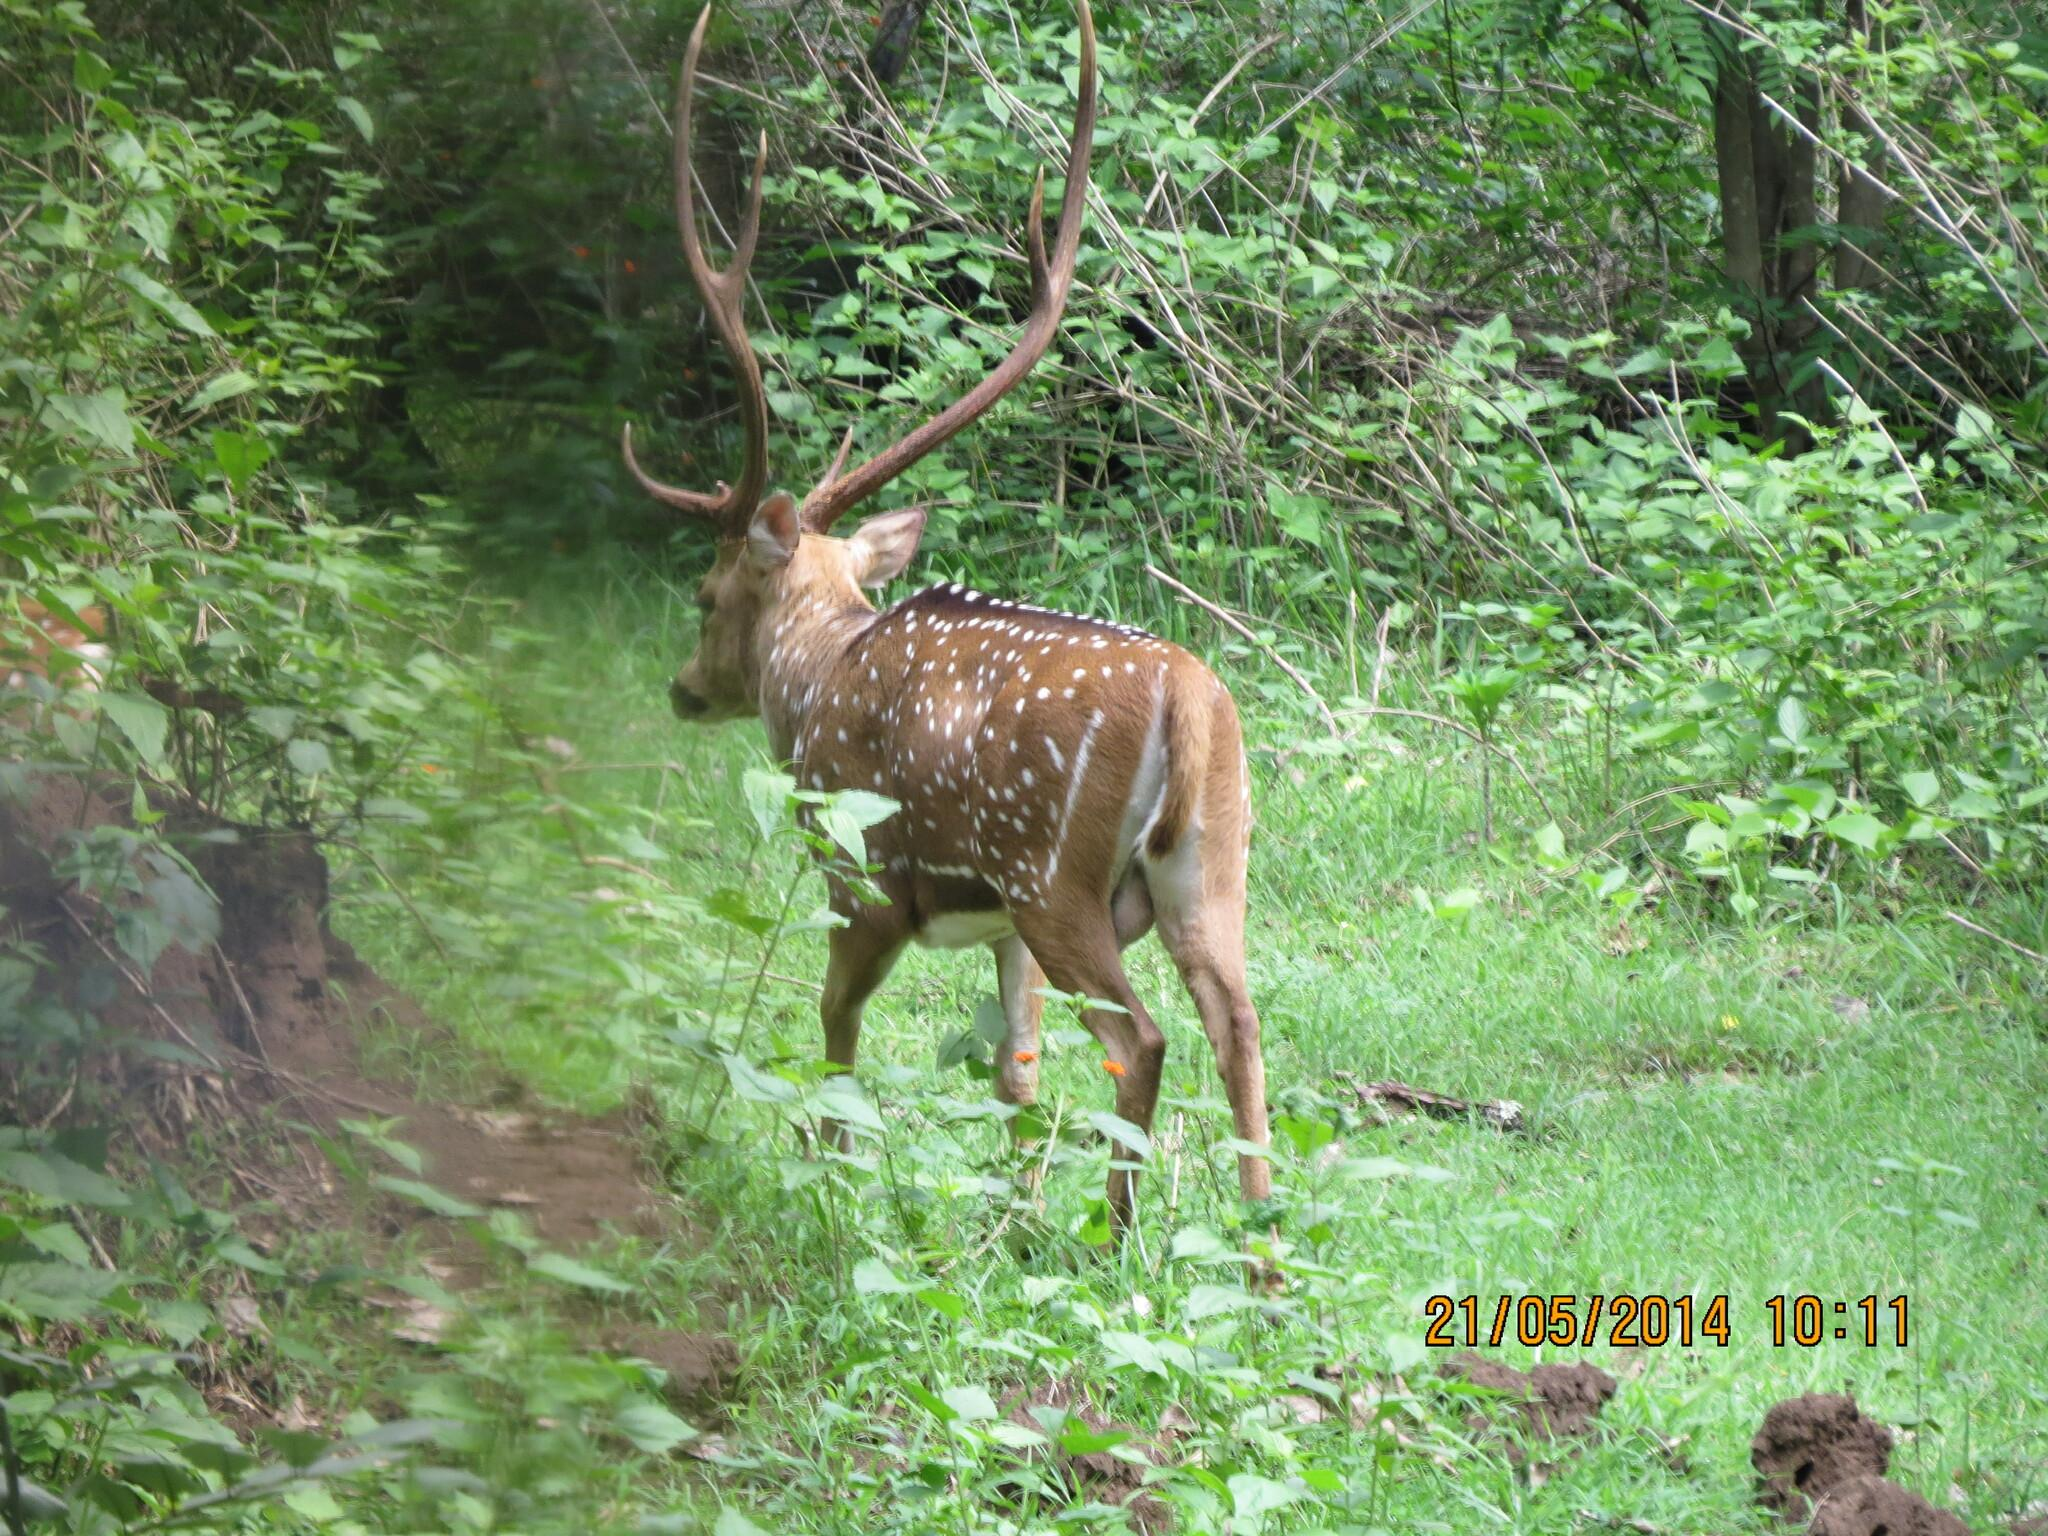Deer: (621, 0, 1268, 1146)
